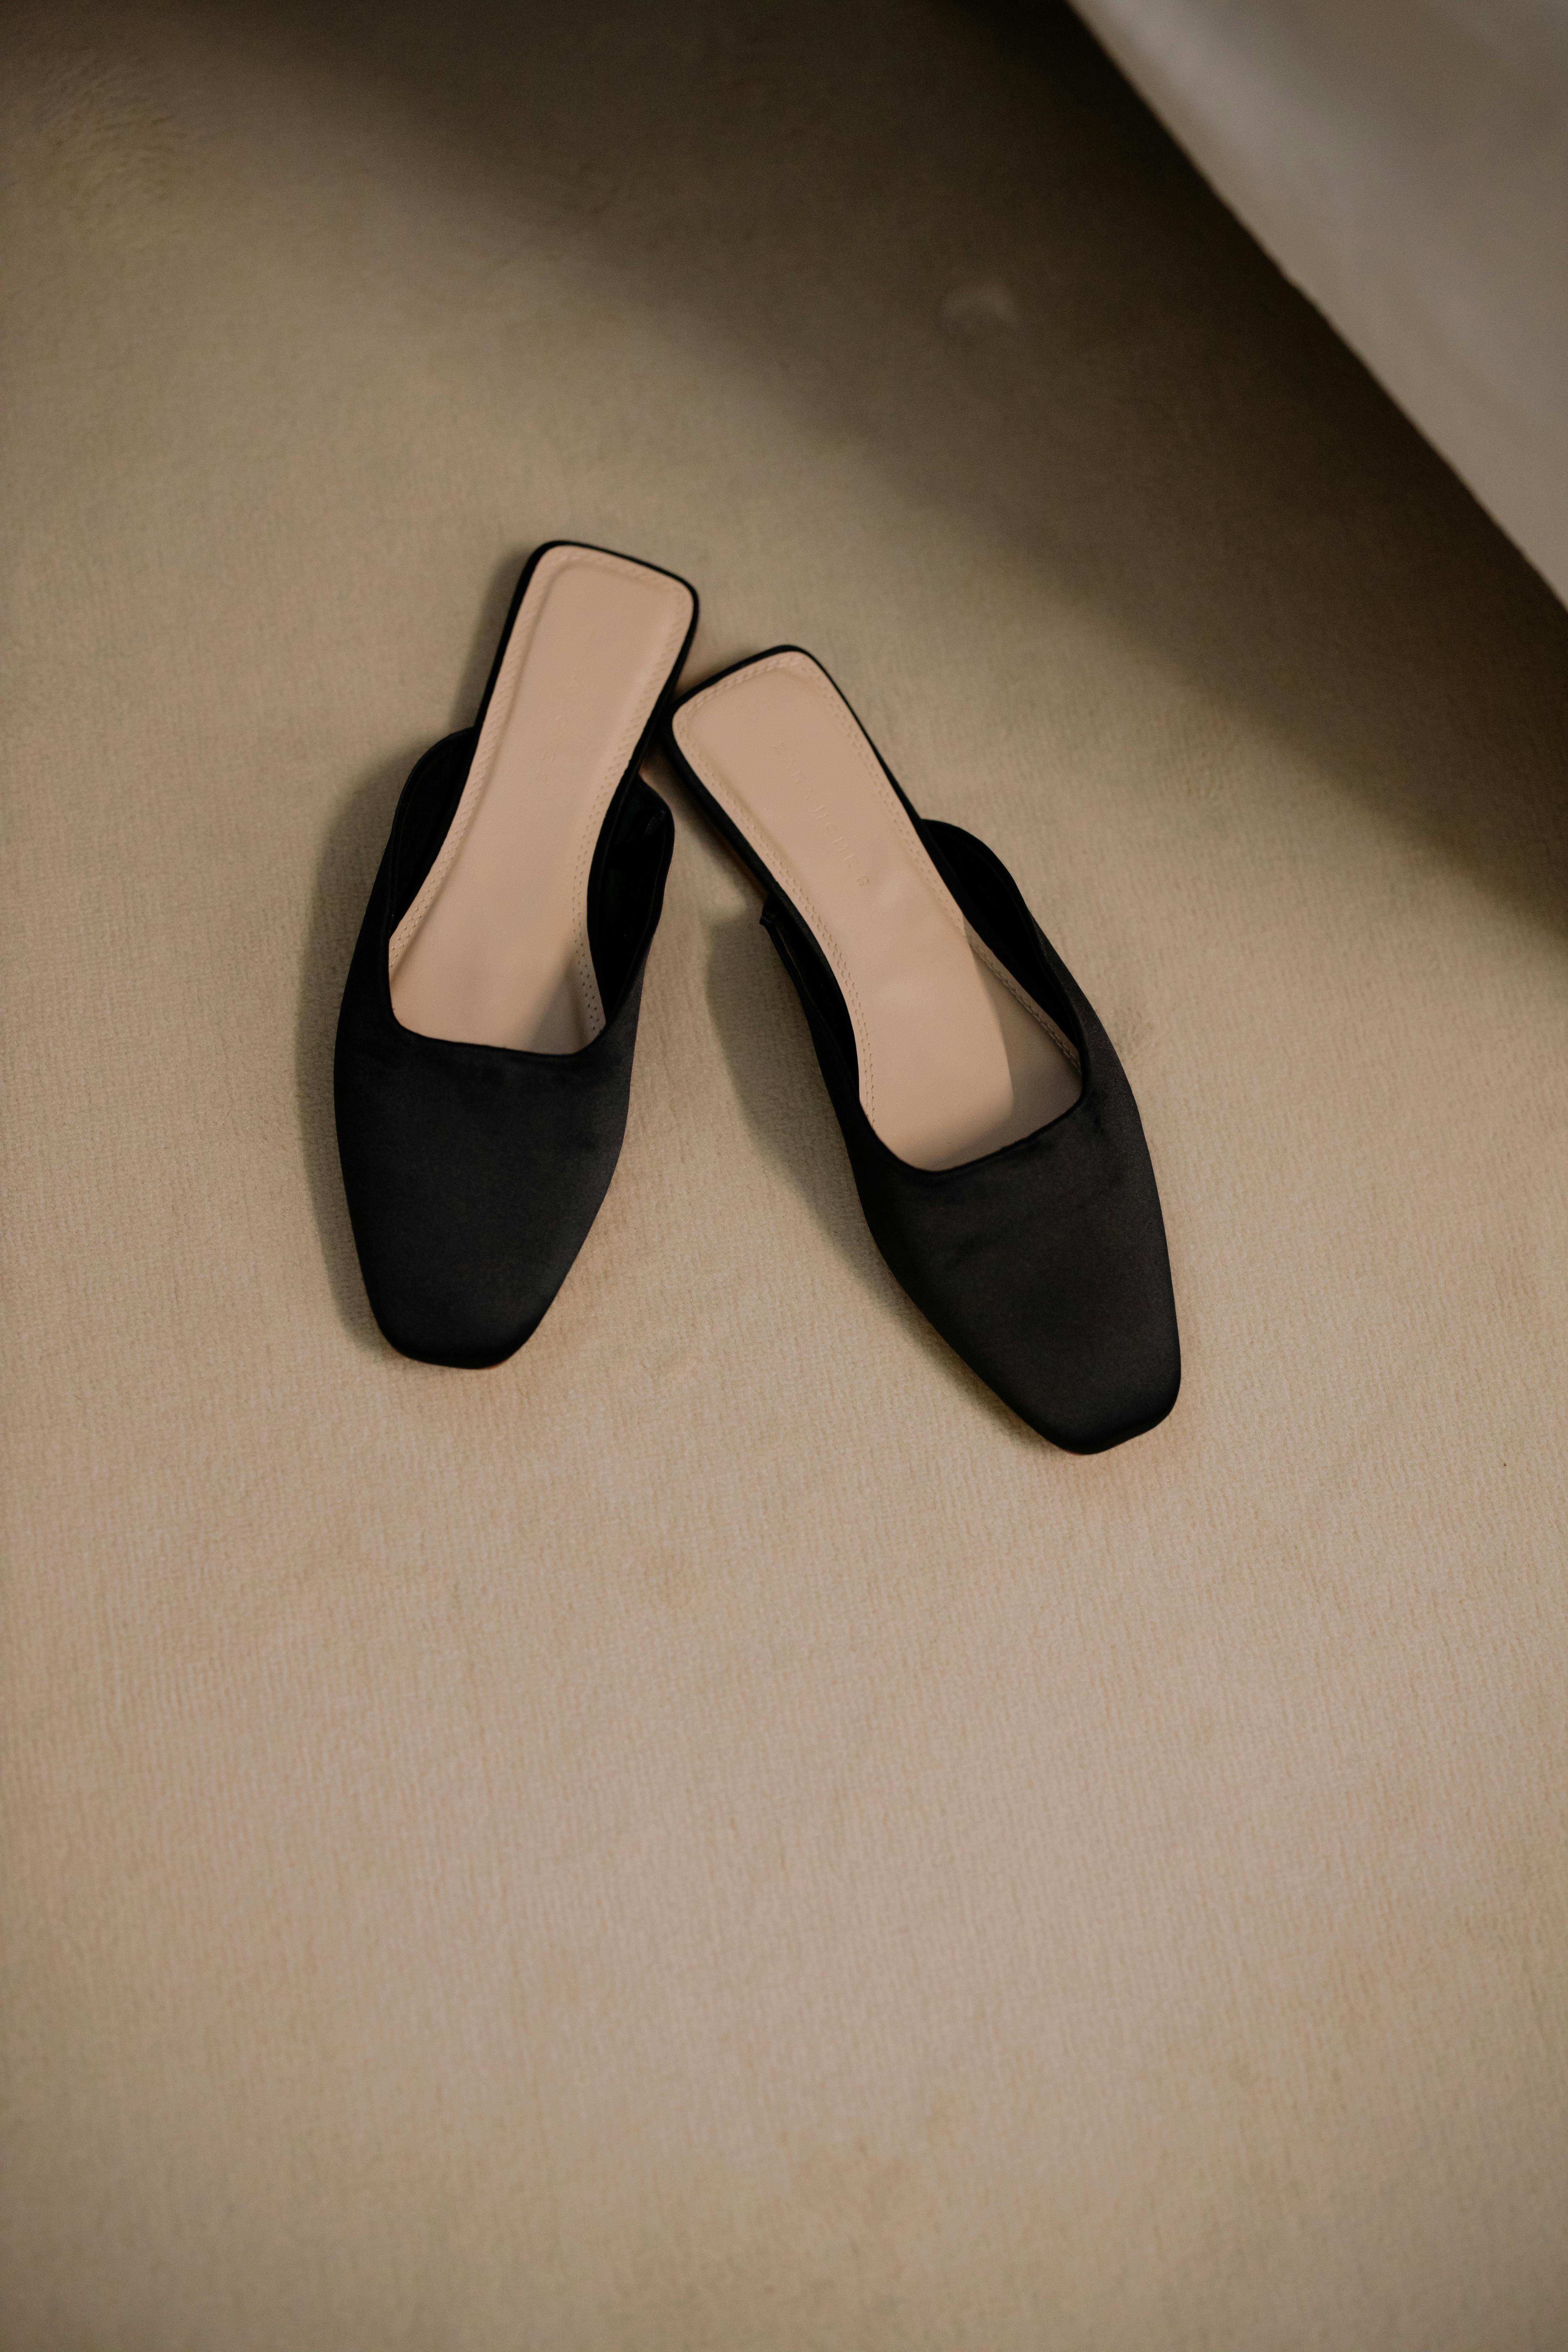Footwear: (315, 483, 1218, 1514)
